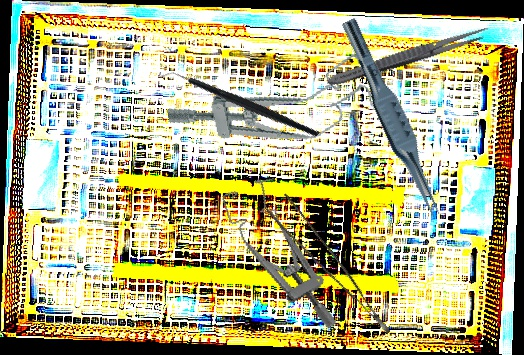Chopper: (158, 26, 321, 184)
Dressing Forceps: (324, 22, 492, 91)
Speculum: (163, 50, 382, 168), (218, 168, 340, 349)
Tissue Forceps: (330, 17, 453, 220), (264, 188, 391, 351)
